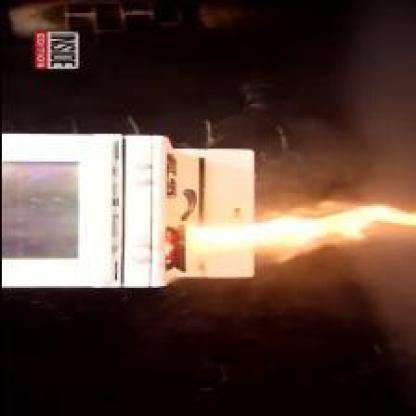Fire: (185, 207, 413, 270)
